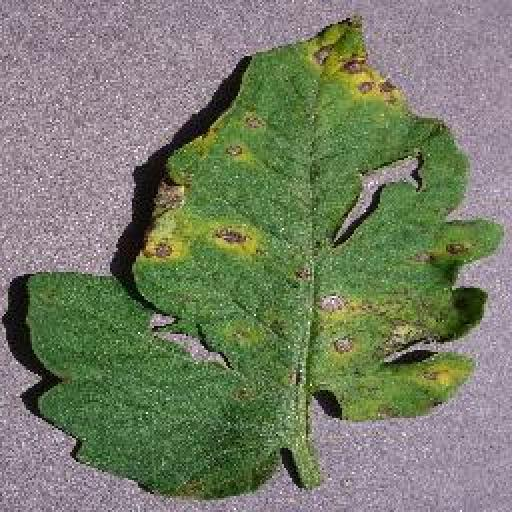Septoria: (26, 10, 505, 502)
